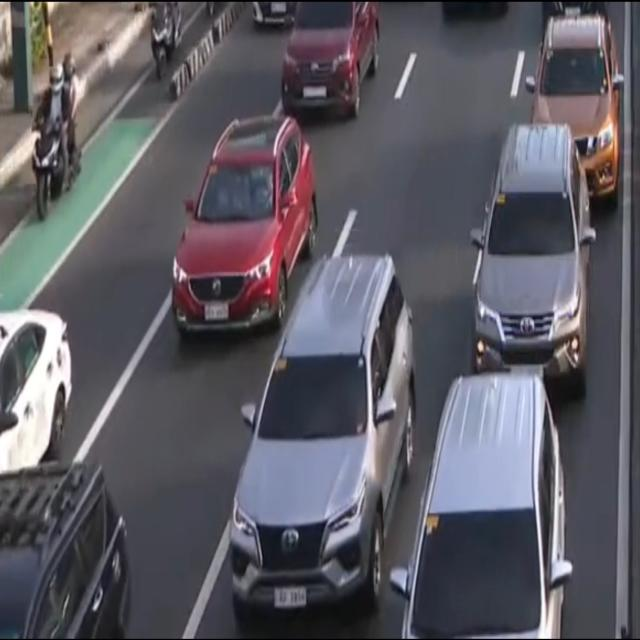Motorcycle: (31, 44, 84, 227), (149, 0, 179, 81)
SUV: (228, 258, 417, 636), (406, 378, 568, 640), (170, 118, 318, 344), (467, 119, 595, 369), (0, 459, 137, 640), (525, 15, 625, 196), (281, 0, 379, 117)
Sedan: (0, 318, 78, 465)
